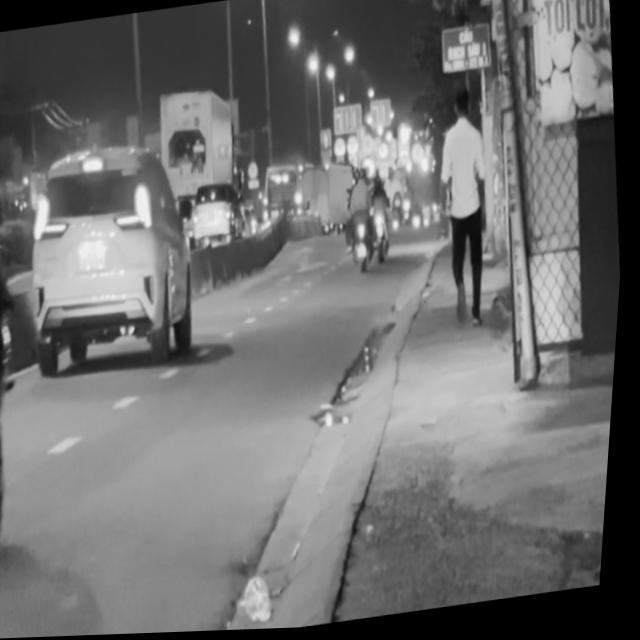licenseplate: (0, 29, 67, 585)
